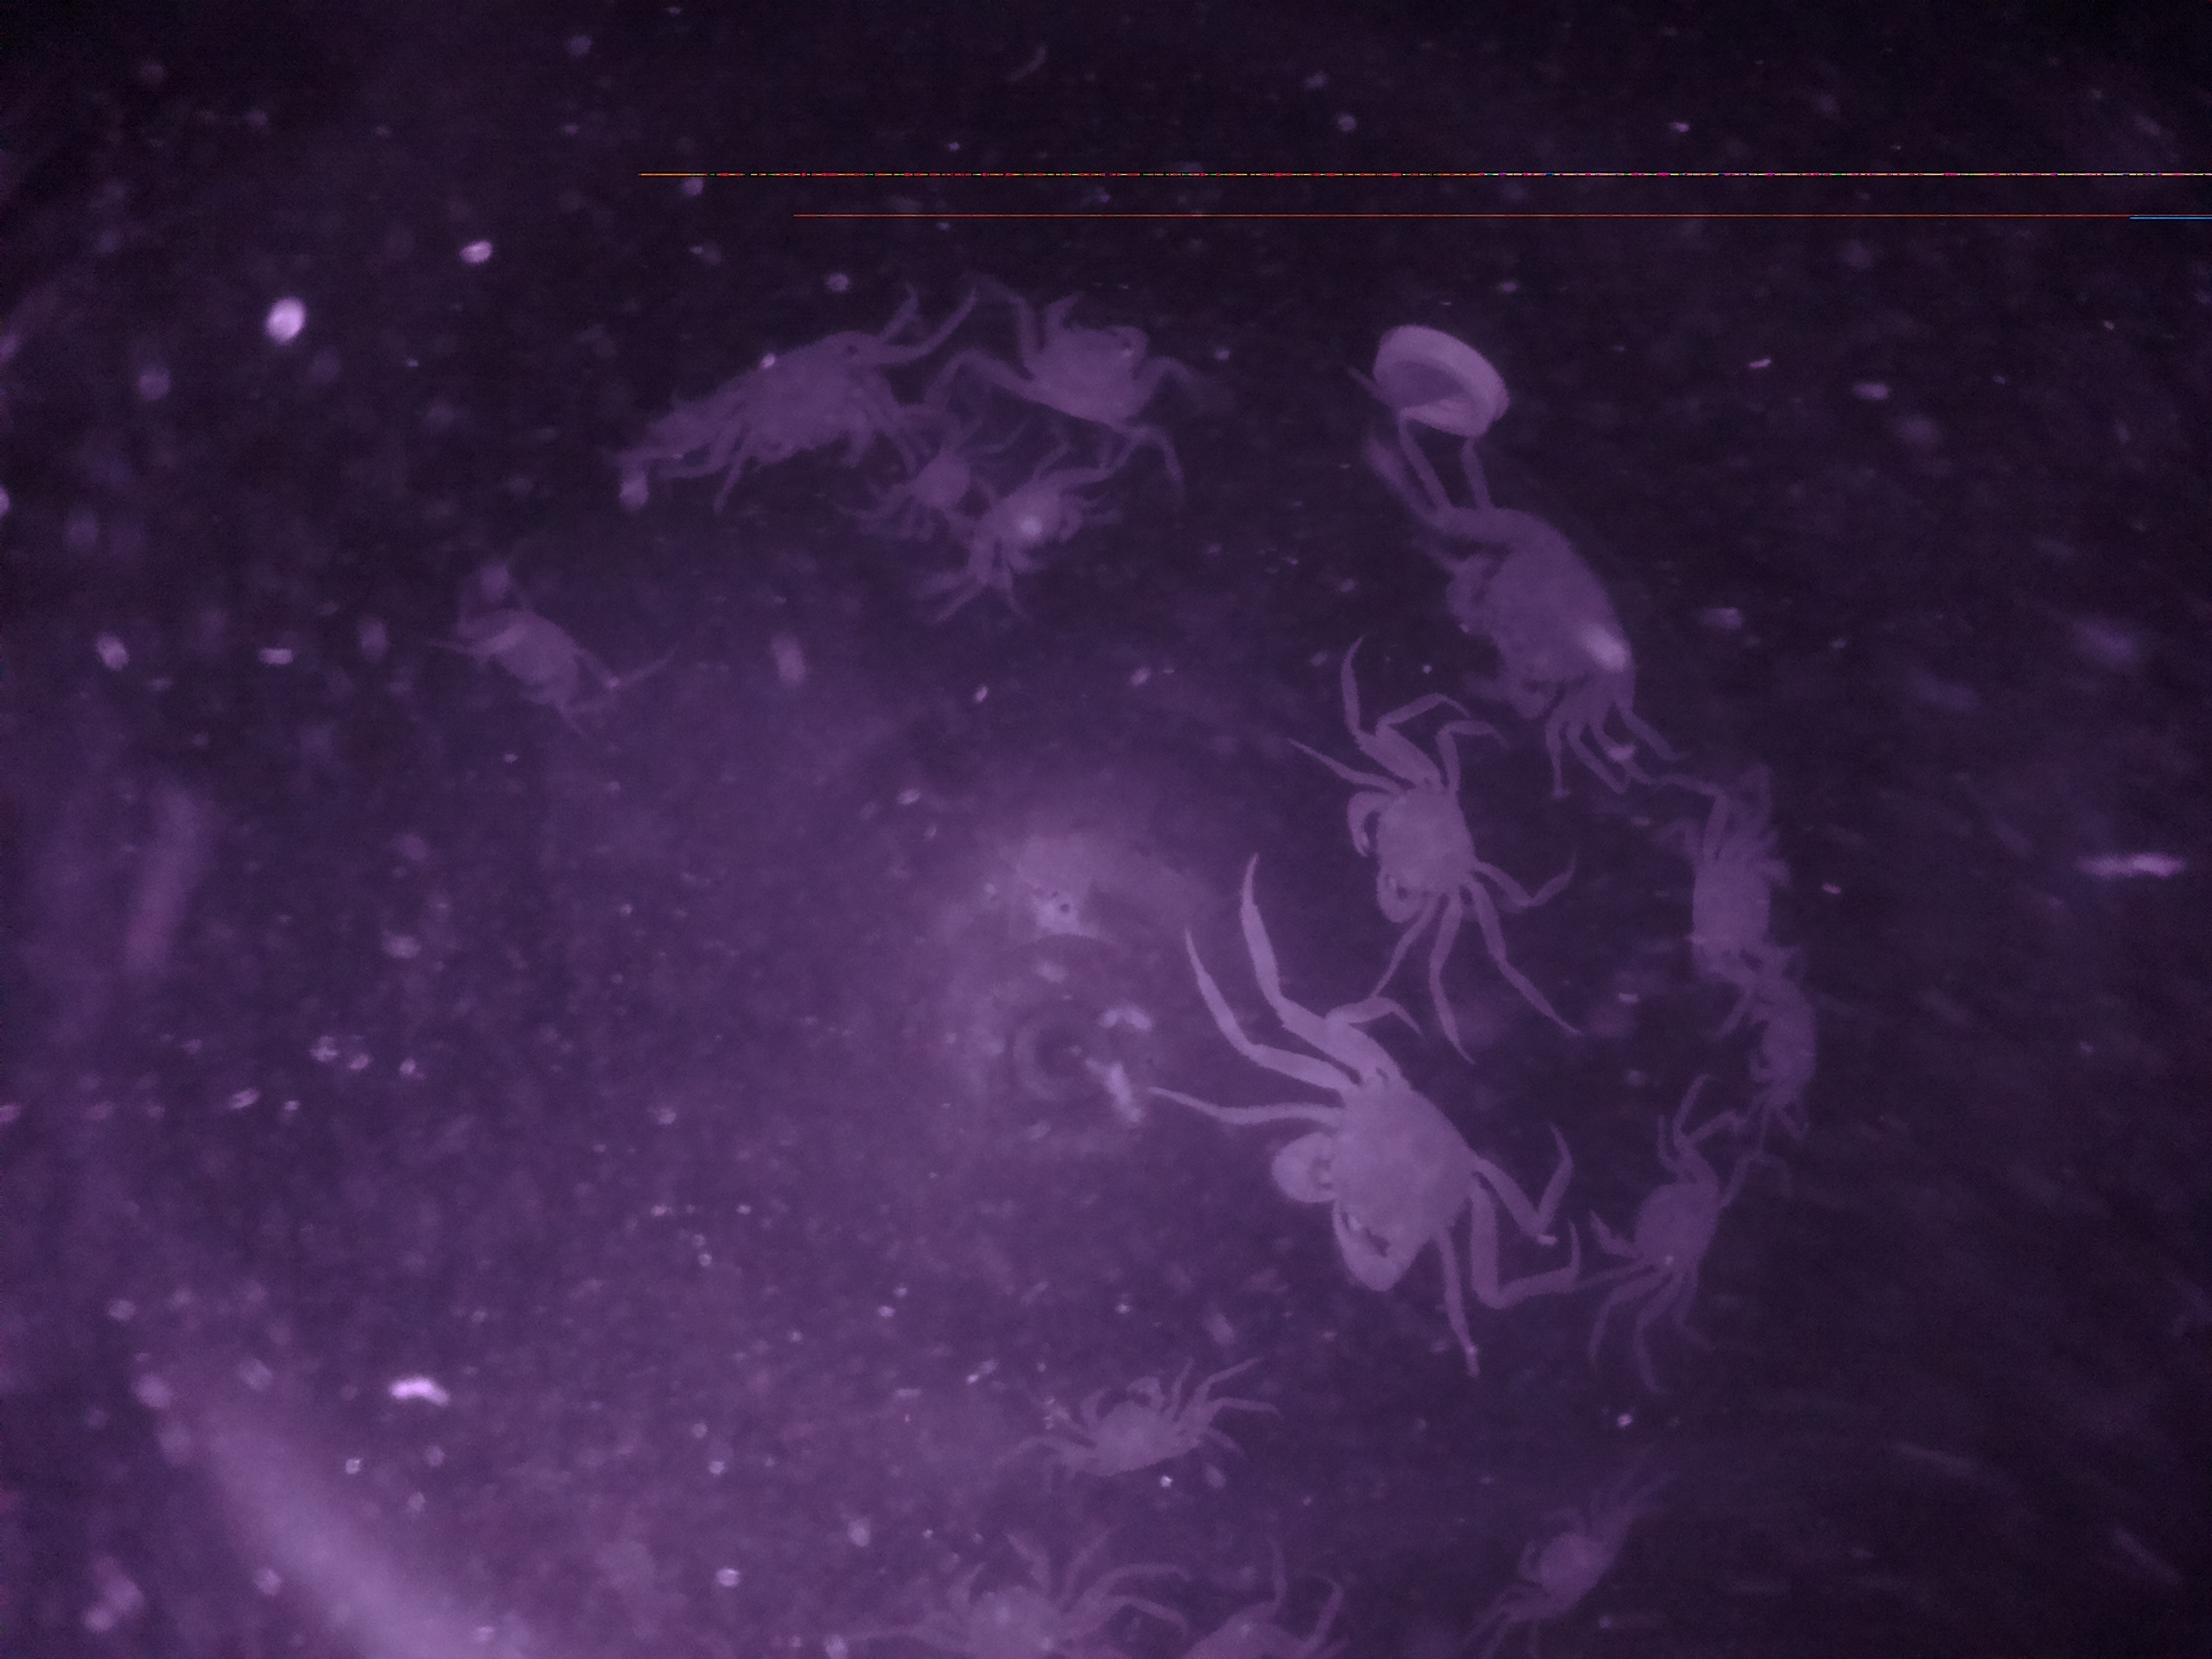Crab: (1238, 1033, 1524, 1316), (1400, 486, 1653, 751), (1338, 734, 1501, 957), (1587, 1119, 1745, 1333), (1658, 809, 1820, 1011), (981, 282, 1176, 443), (1500, 1495, 1651, 1642), (1052, 1361, 1198, 1490), (953, 462, 1096, 591)
